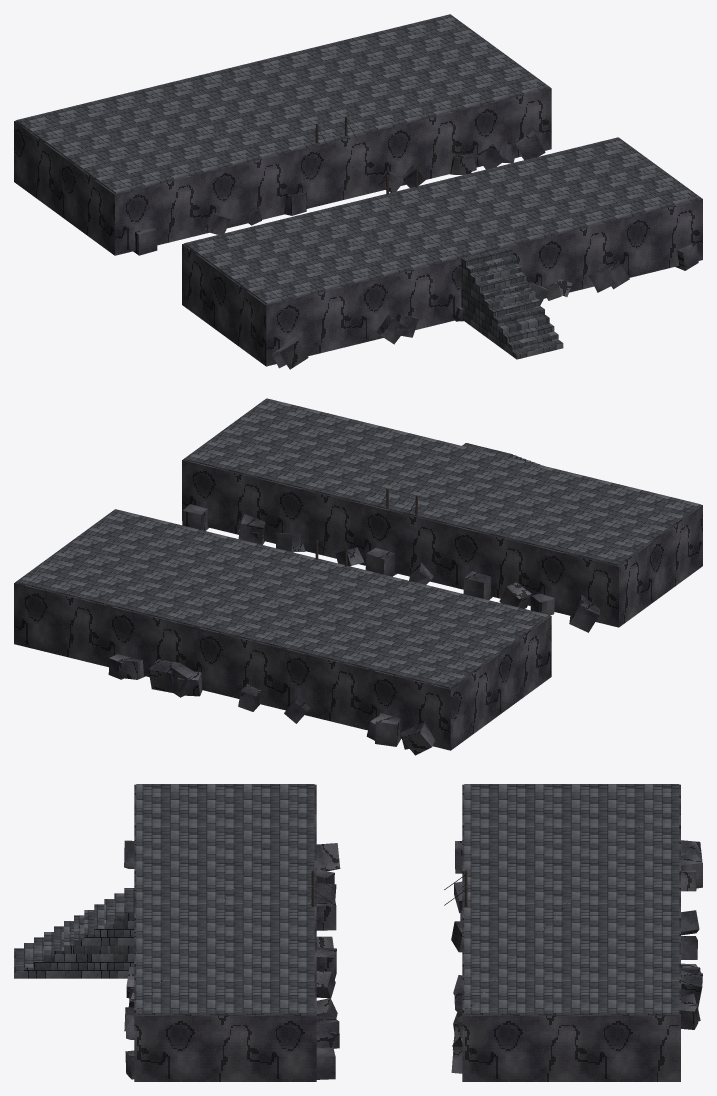
Rendered from meseta_hoz.obj.
The picture shows the model from 3 angles, top to bottom: view 1: azimuth 30°, elevation 25°; view 2: azimuth 150°, elevation 25°; view 3: azimuth 270°, elevation 25°; orthographic projection. The views are drawn at different scales.
Visible parts, largest first — view 1: meseta_hoz; view 2: meseta_hoz; view 3: meseta_hoz.
Part boxes in pixels (bbox=[...]): meseta_hoz: bbox=[14, 14, 702, 369]; meseta_hoz: bbox=[14, 398, 702, 755]; meseta_hoz: bbox=[14, 784, 702, 1081].
Size of the model in its own units: 30 by 5.76 by 37.8.
4 materials, 4 textured.
